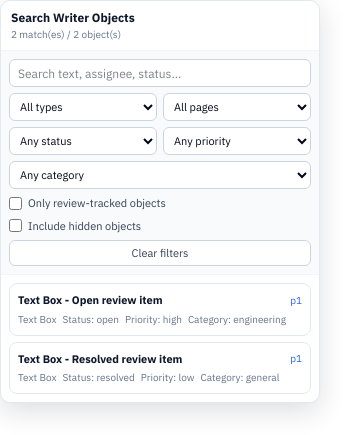
it: WriterObjectSearchPanel › filters by review status
The image size is (344, 435).
Select "Open" in the dropdown named "Filter Writer review status" at (83, 141), box 9,127 -> 157,155
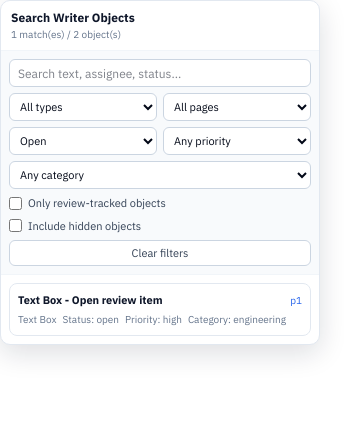
Expected: the text "Text Box - Open review item" is shown, 18,292 -> 162,308
Expected: the list item "Resolved review item" is gone
